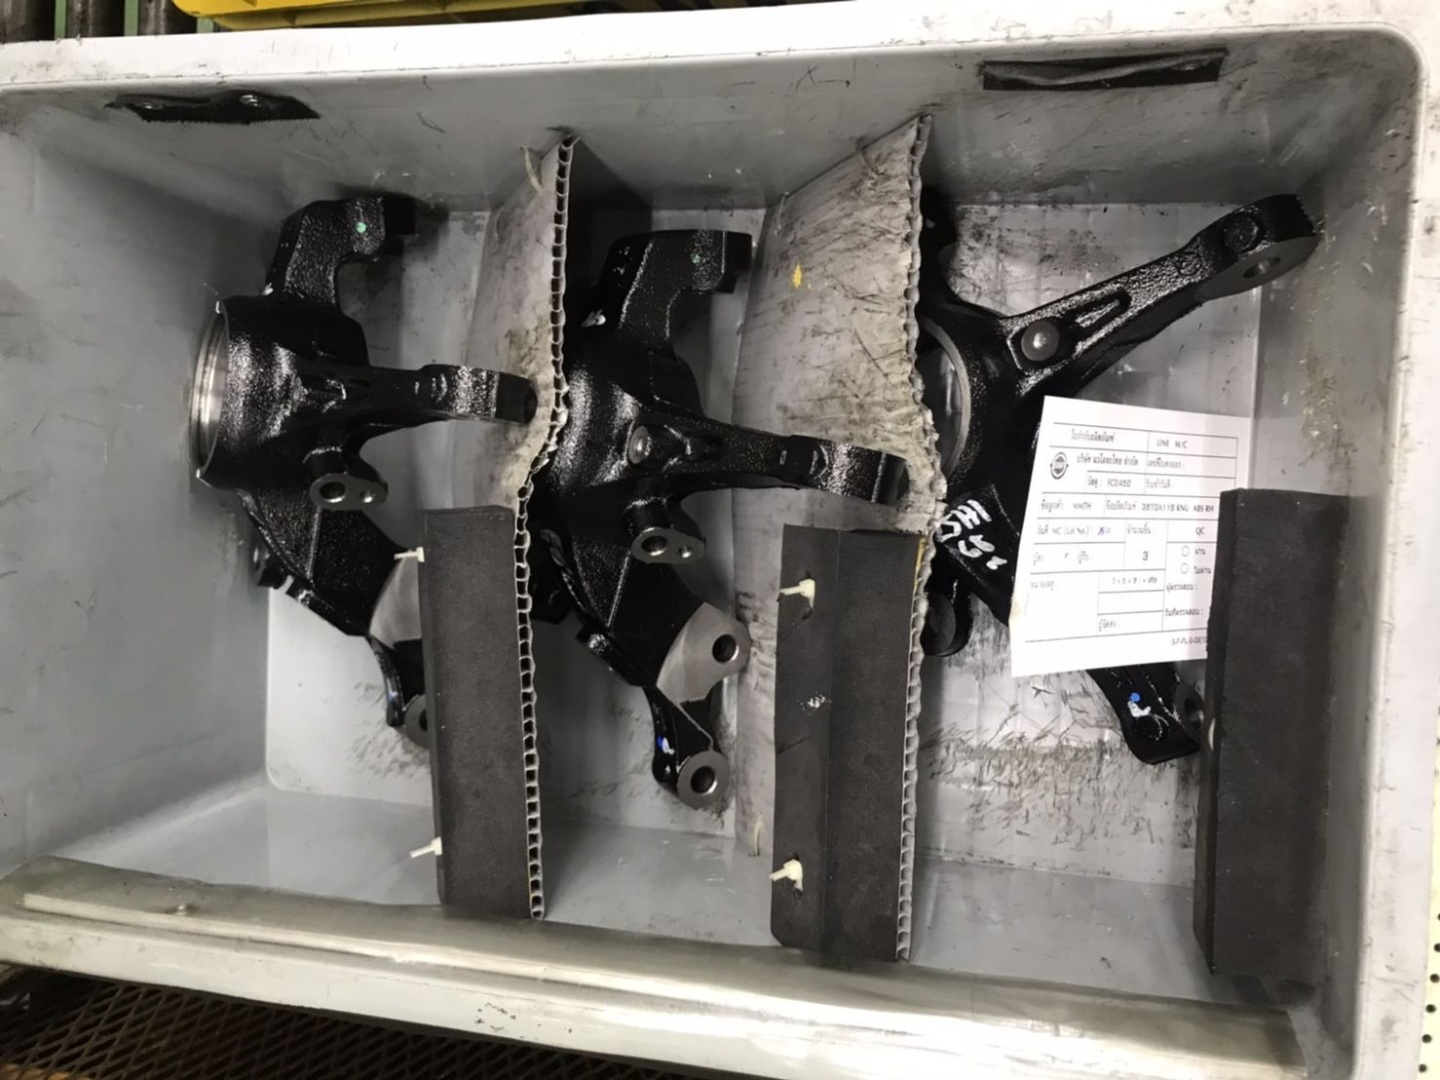abs-rh: (910, 182, 1324, 813), (544, 206, 912, 830), (169, 180, 537, 768)
